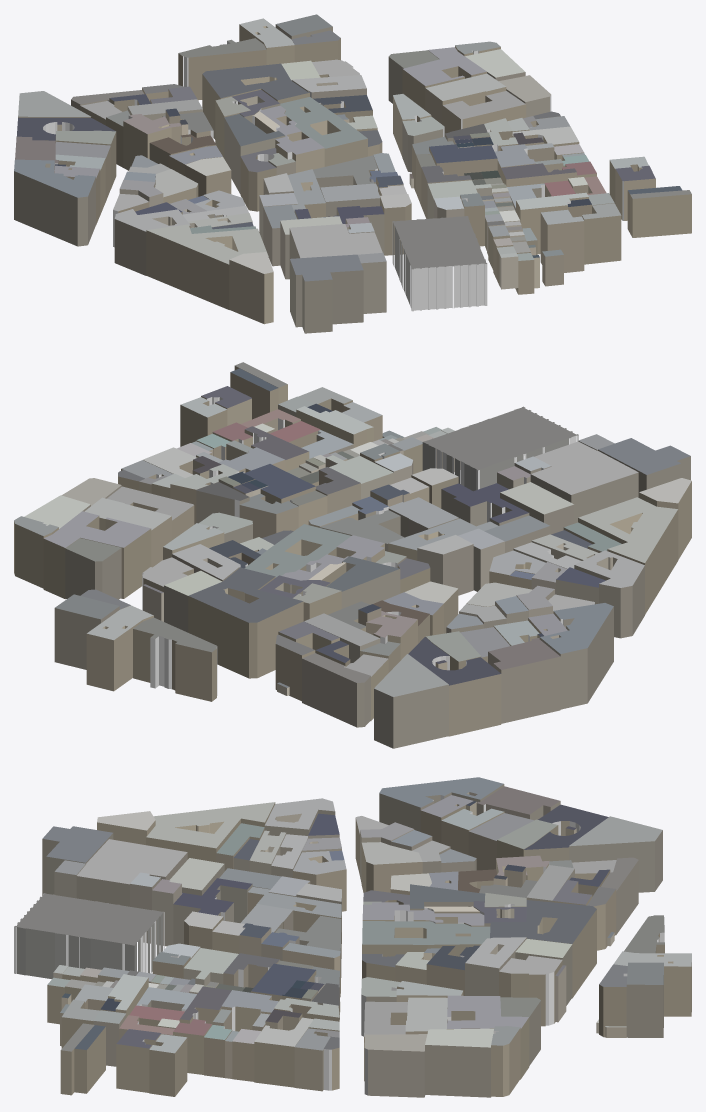
3 renders of one model, top to bottom at view 1: azimuth 30°, elevation 25°; view 2: azimuth 150°, elevation 25°; view 3: azimuth 270°, elevation 25°, orthographic. The views are drawn at different scales.
Parts seen in each view (by area): view 1: tuile; view 2: tuile; view 3: tuile.
Boxes of the visible parts, x1=… form: tuile: x1=14, y1=14, x2=691, y2=333; tuile: x1=14, y1=362, x2=691, y2=748; tuile: x1=14, y1=777, x2=691, y2=1097.
Size of the model in its own units: 264 by 35.36 by 282.
